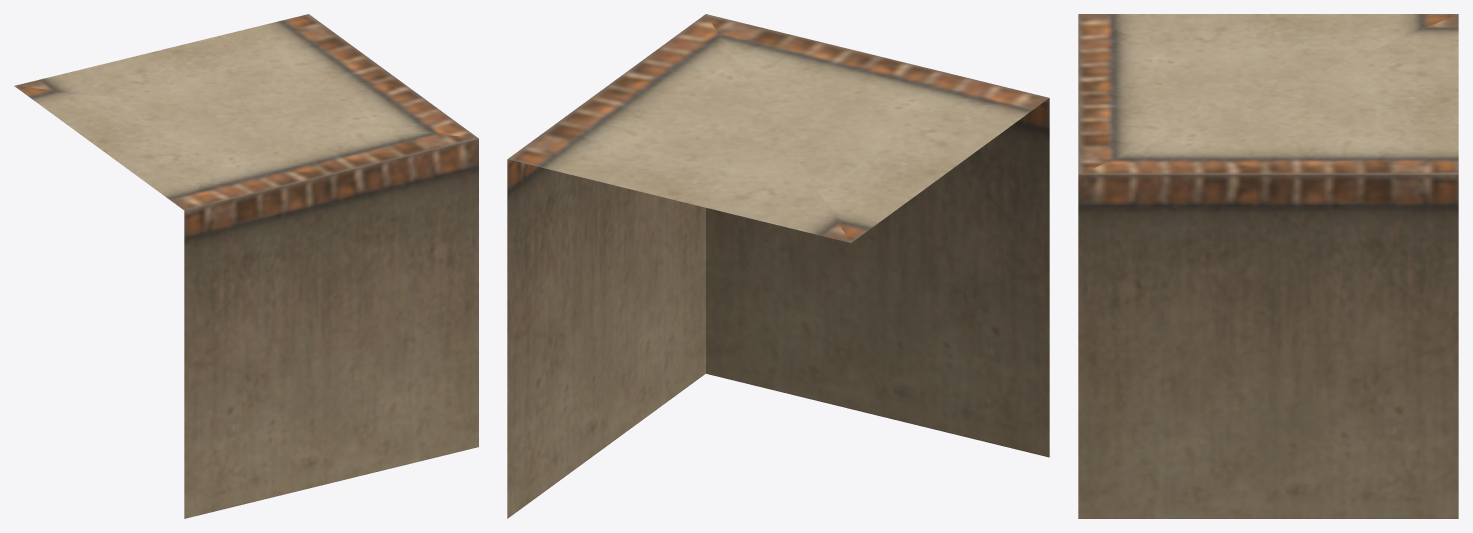
The model's file is normal_corner.glb.
3 views of the same model, side by side, from view 1: azimuth 30°, elevation 25°; view 2: azimuth 150°, elevation 25°; view 3: azimuth 270°, elevation 25° (orthographic). The views are drawn at different scales.
Parts seen in each view (by area): view 1: Floor_03_15; view 2: Floor_03_15; view 3: Floor_03_15.
Boxes of the visible parts, box(x1,y1,x2,y2) form: Floor_03_15: box(14, 14, 478, 518); Floor_03_15: box(507, 14, 1049, 518); Floor_03_15: box(1078, 14, 1458, 518).
Bounding box in the file's own units: 5 × 5 × 5.
Materials: 2 (2 with a texture image).
